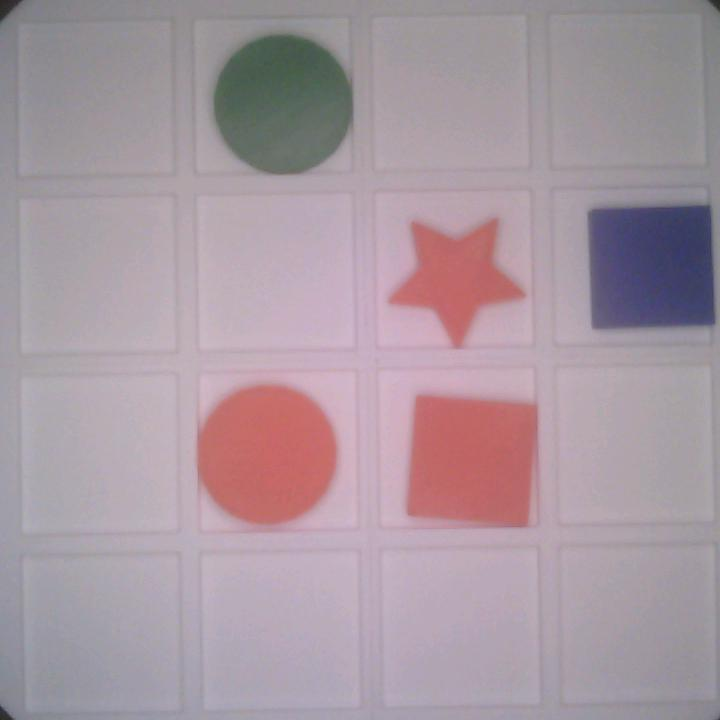Blue square: (579, 199, 717, 339)
Green circle: (211, 32, 353, 176)
Orange circle: (197, 382, 334, 526)
Orange square: (400, 391, 538, 534)
Orange star: (389, 217, 521, 358)
